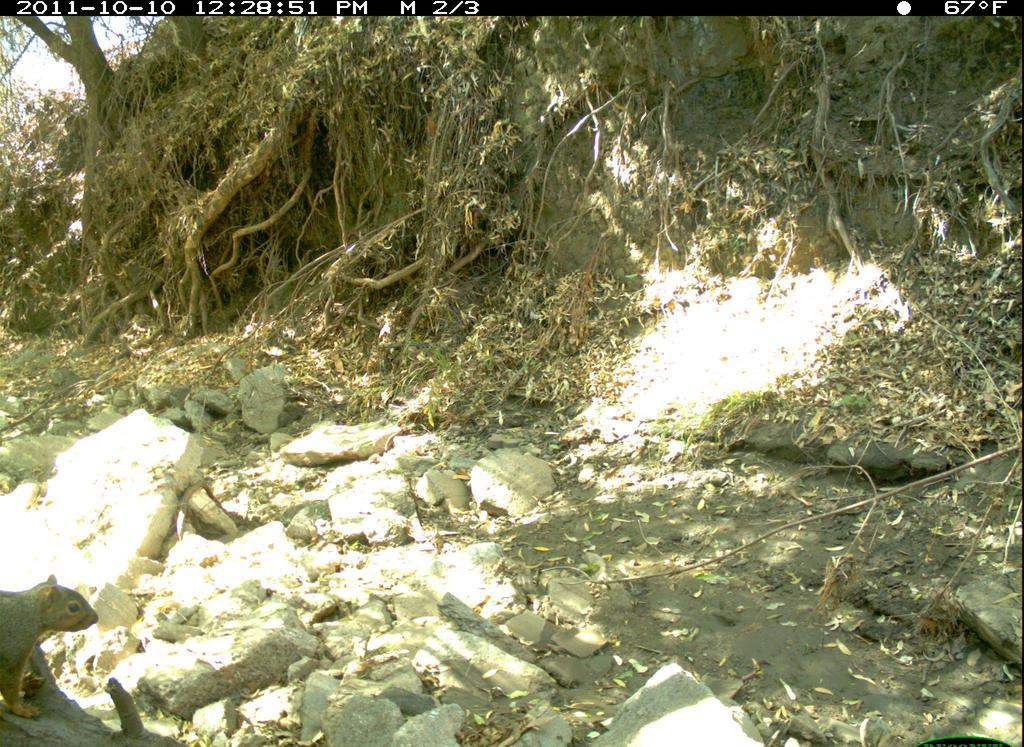squirrel: (1, 566, 112, 728)
